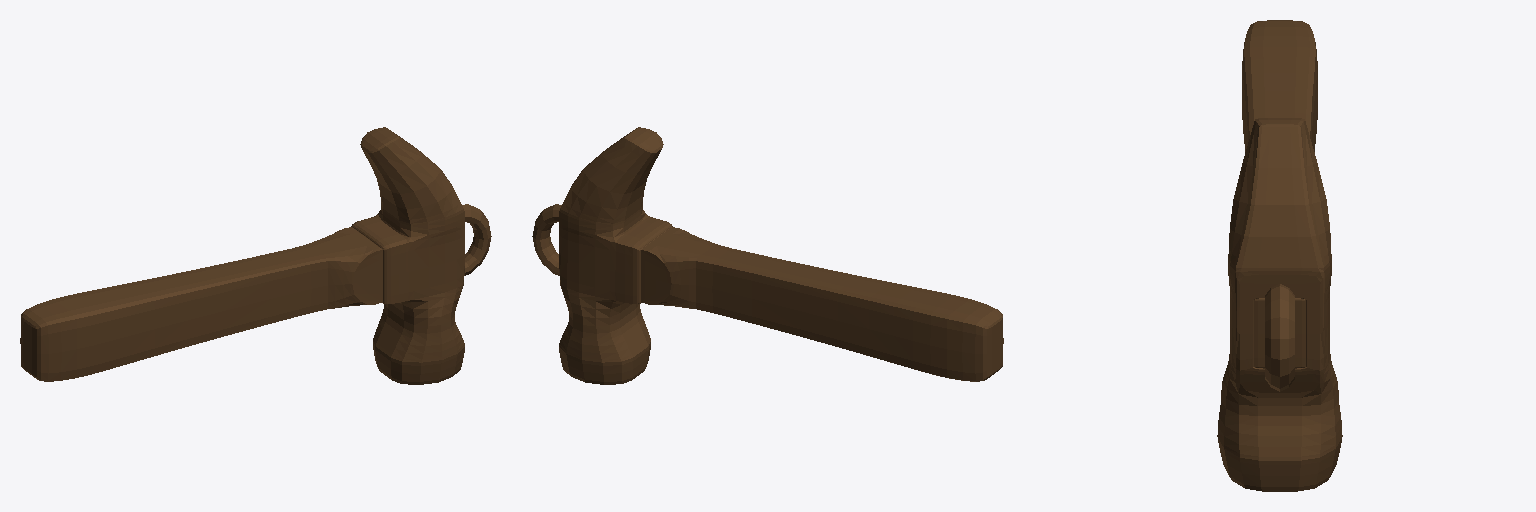
URDF robot description (hammer):
<?xml version="1.0" encoding="utf-8"?>
<robot name="hammer">
  <link name="base_link">
    <contact>
      <lateral_friction value="0.5"/>
      <rolling_friction value="2.0"/>
      <contact_cfm value="1.0"/>
      <contact_erp value="1.0"/>
    </contact>
    <inertial>
      <origin rpy="0 0 0" xyz="0 0 0"/>
      <mass value="1"/>
      <inertia ixx="0.2" ixy="0.2" ixz="0.2" iyy="0.2" iyz="0.2" izz="0.2"/>
    </inertial>
    <visual>
      <origin rpy="0 1.57 0" xyz="0 0 0.1"/>
      <geometry>
        <mesh filename="models/meshes/hammer/hammer.obj" scale="0.1 0.1 0.1"/>
      </geometry>
      <material name="hi7">
        <color rgba="0.4 0.3 0.2 1"/>
      </material>
    </visual>
    <collision>
      <origin rpy="0 1.57 0" xyz="0 0 0.1"/>
      <geometry>
        <mesh filename="models/meshes/hammer/hammer.obj" scale="0.1 0.1 0.1"/>
      </geometry>
    </collision>
  </link>
</robot>

--- Facts derived from the render (not from the file) ---
Views: 3 orthographic renders of the robot side by side, from view 1: azimuth 30°, elevation 25°; view 2: azimuth 150°, elevation 25°; view 3: azimuth 270°, elevation 25°.
Robot: hammer — 1 links, 0 joints (none); root link base_link; default pose: all joints at 0.
Visible links, largest first — view 1: base_link; view 2: base_link; view 3: base_link.
Link boxes in pixels (<box>): base_link: <box>20,127,491,384</box>; base_link: <box>532,127,1003,384</box>; base_link: <box>1217,20,1342,491</box>.
Size in the robot's own frame: 0.3974 by 0.0689 by 0.1997 metres.
Meshes: 1 distinct files referenced, 1 mesh visuals loaded (1 OBJ).